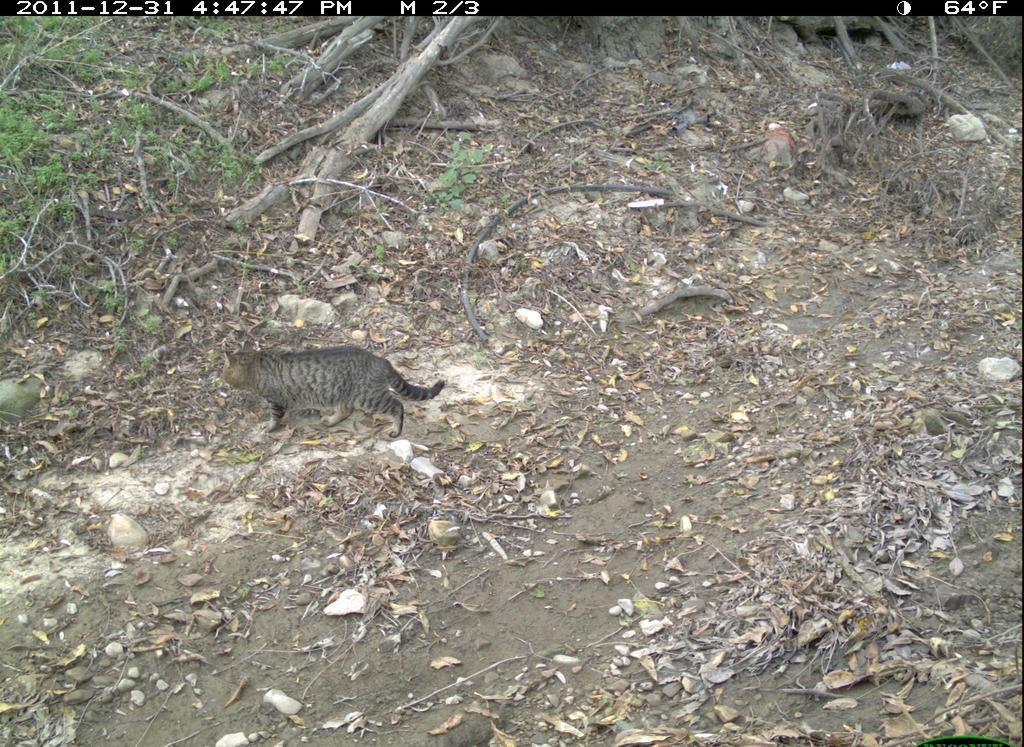cat: (204, 335, 463, 451)
